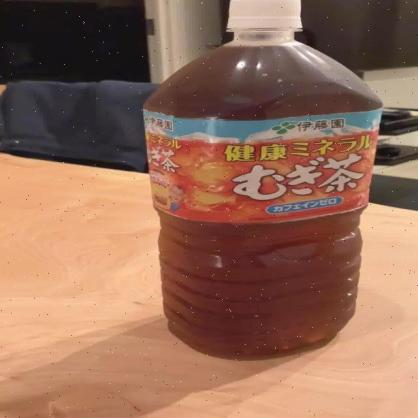bottle: (142, 0, 385, 359)
cap: (220, 0, 312, 35)
label: (143, 112, 383, 220)
